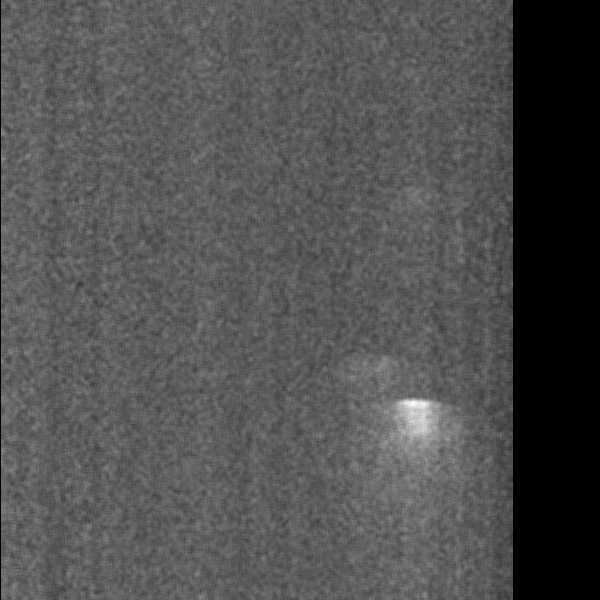spark: (366, 387, 463, 509)
